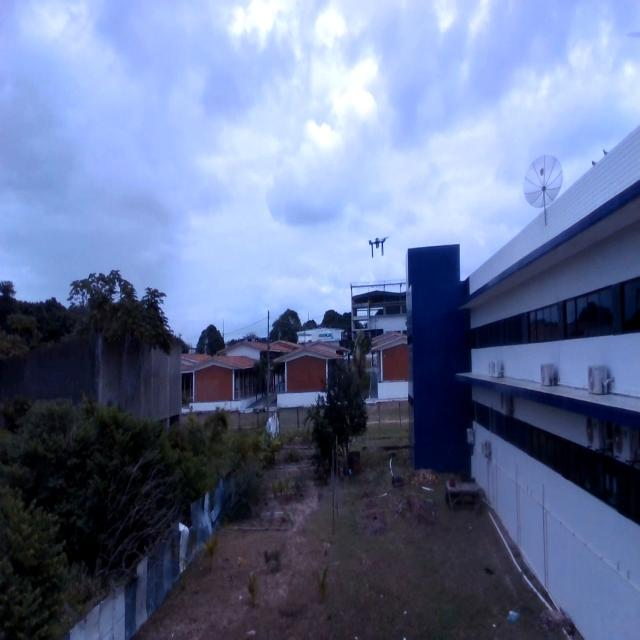-uav-: (360, 224, 393, 271)
